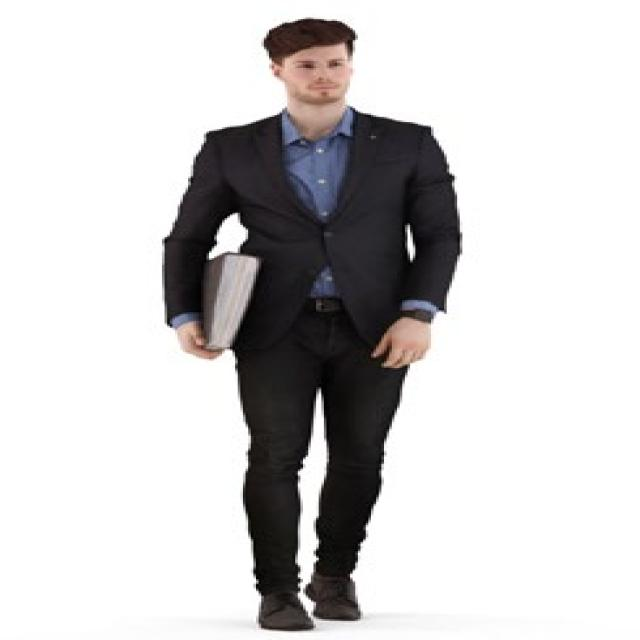standing: (154, 17, 472, 632)
